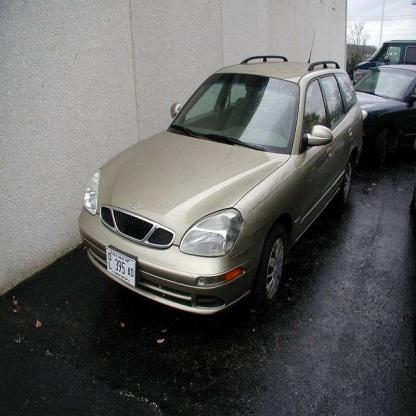Vehicle: (83, 55, 364, 317)
